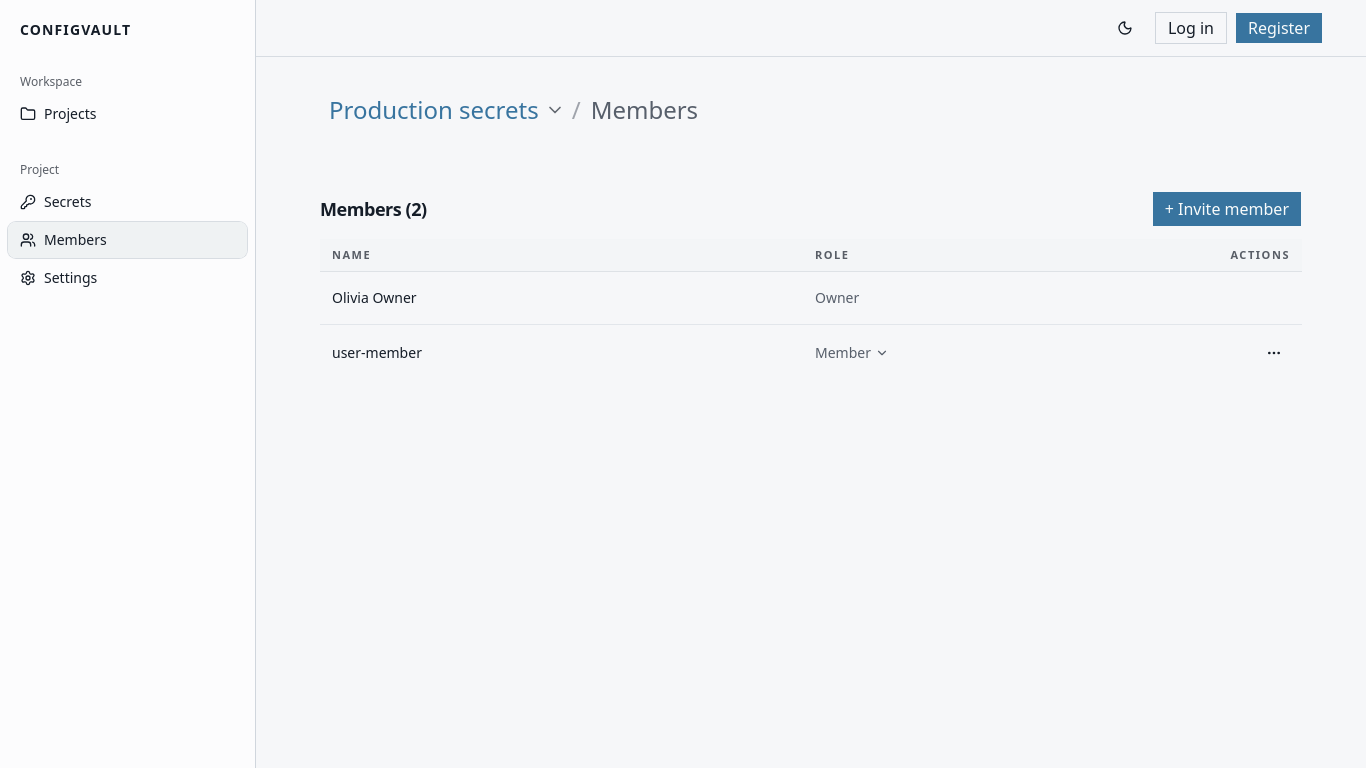
Test: ProjectDetailPage › shows remove member errors and leaves the member visible
What coordinates should you click on to do the following:
click the button named "Member actions for user-member"
I would click on:
 (1274, 353)
Its box is [1258,337,1290,369].
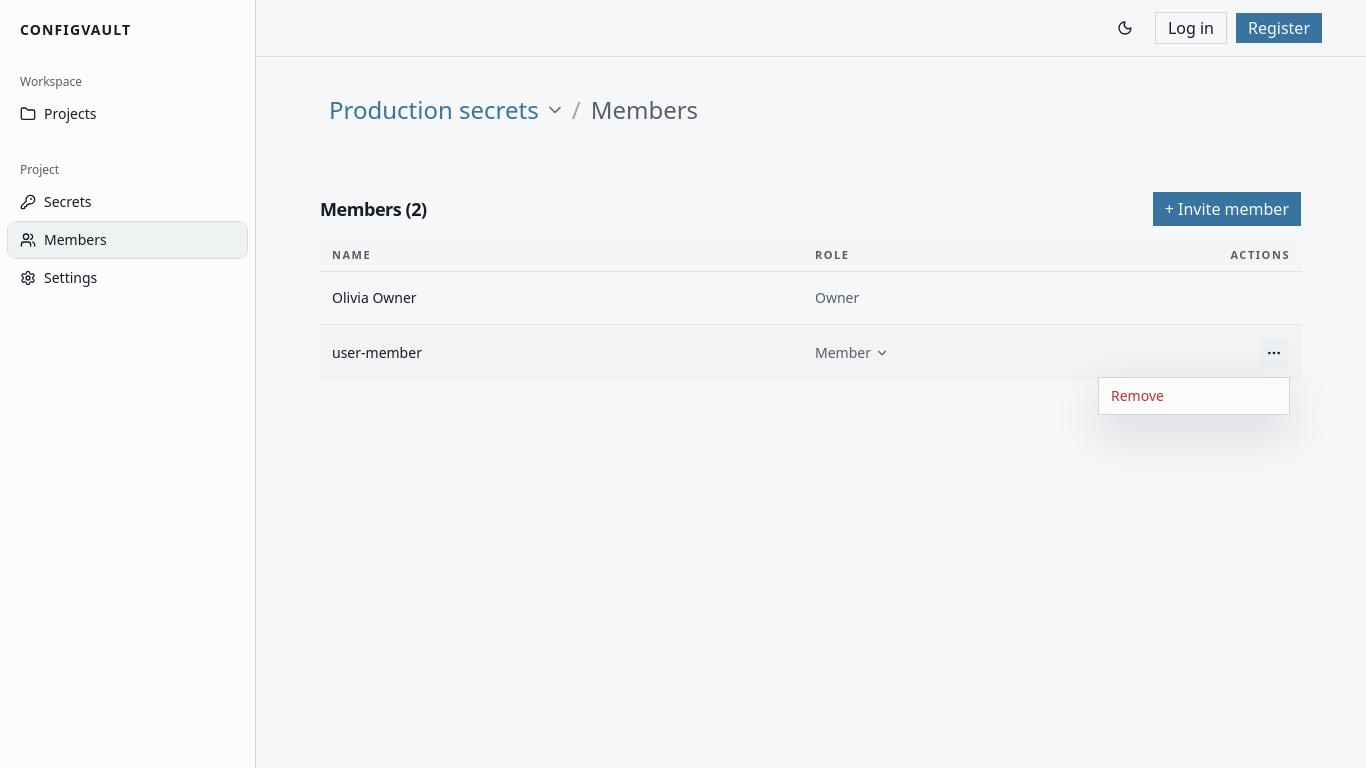
What coordinates should you click on to do the following:
click the menu item "Remove"
I would click on:
 (1137, 396)
Its box is [1111,386,1164,405].
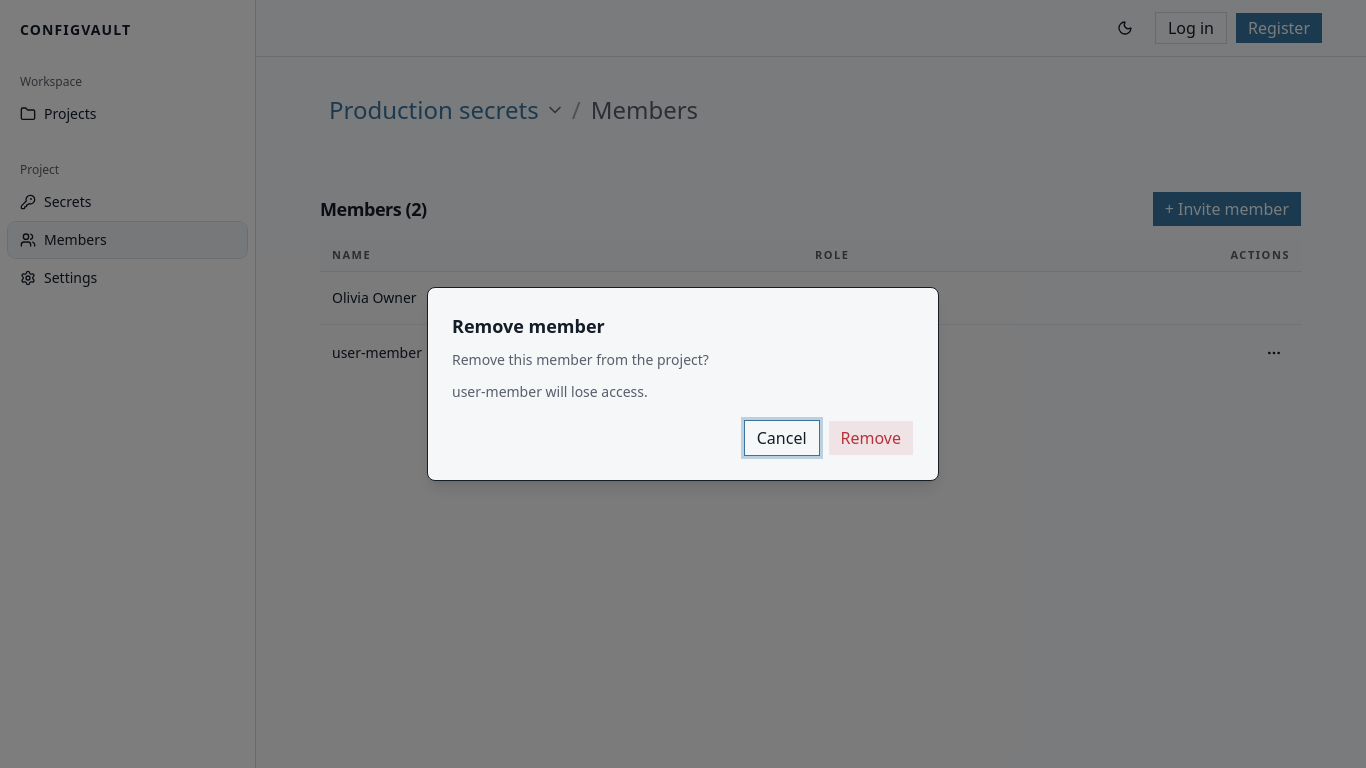
What coordinates should you click on to do the following:
click the button "Remove"
I would click on:
 (871, 438)
Its box is [828,420,914,456].
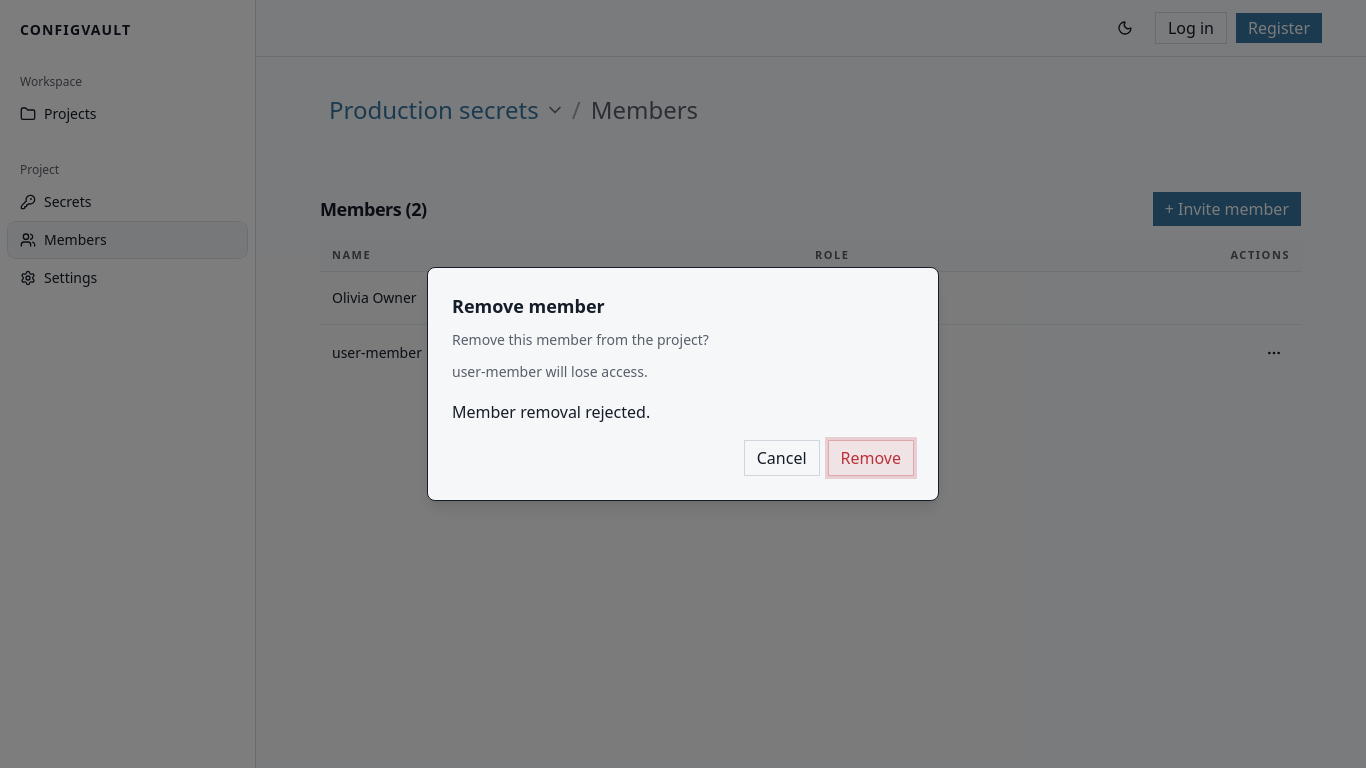
Expected: the text "user-member" is shown, [332,343,422,362]
Result: the message reads "Member removal rejected." at [452,401,650,423]
